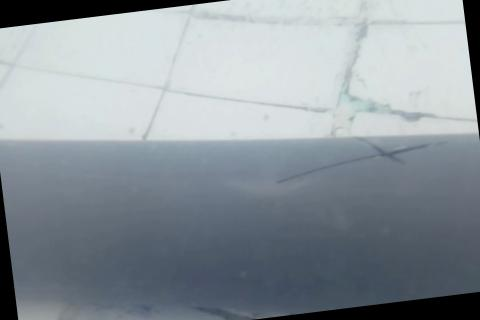keretakan: (269, 131, 449, 188)
